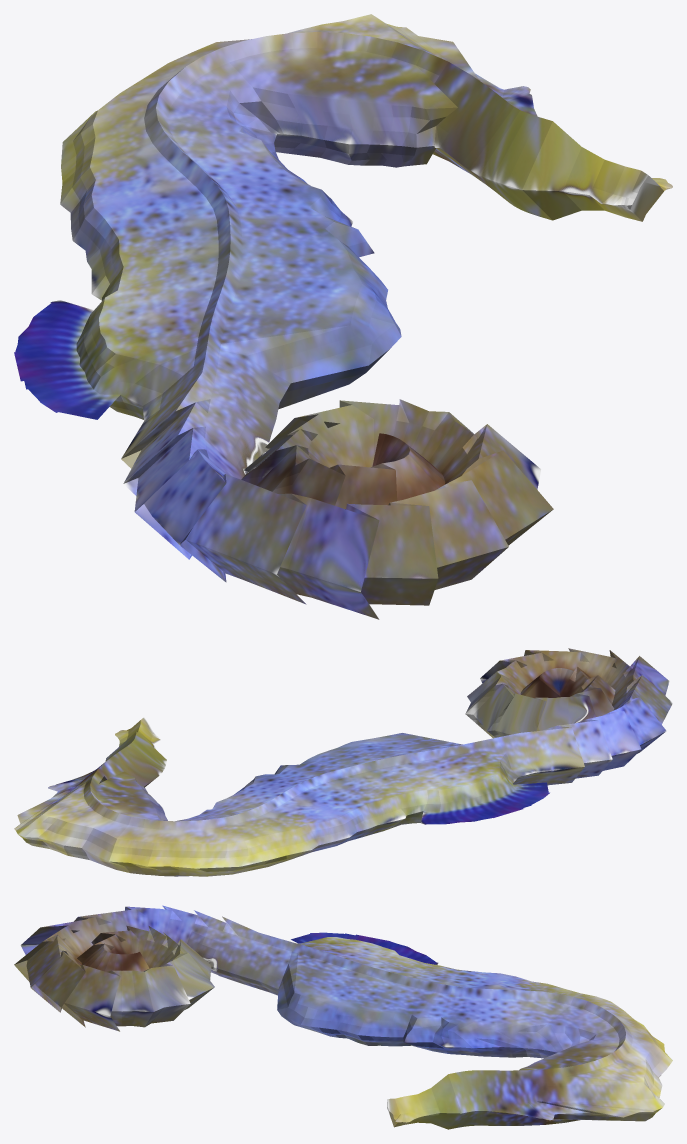
File: Caballitodemar.fbx
3 views of the same model, one above another, from view 1: azimuth 30°, elevation 25°; view 2: azimuth 150°, elevation 25°; view 3: azimuth 270°, elevation 25° (orthographic). The views are drawn at different scales.
Visible parts, largest first — view 1: CaballitodeMar; view 2: CaballitodeMar; view 3: CaballitodeMar.
Boxes of the visible parts, x1=… form: CaballitodeMar: x1=14, y1=14, x2=672, y2=619; CaballitodeMar: x1=14, y1=648, x2=672, y2=876; CaballitodeMar: x1=14, y1=905, x2=672, y2=1129.
Bounding box in the file's own units: 1.86 × 0.2397 × 2.58.
1 material, 1 textured.
